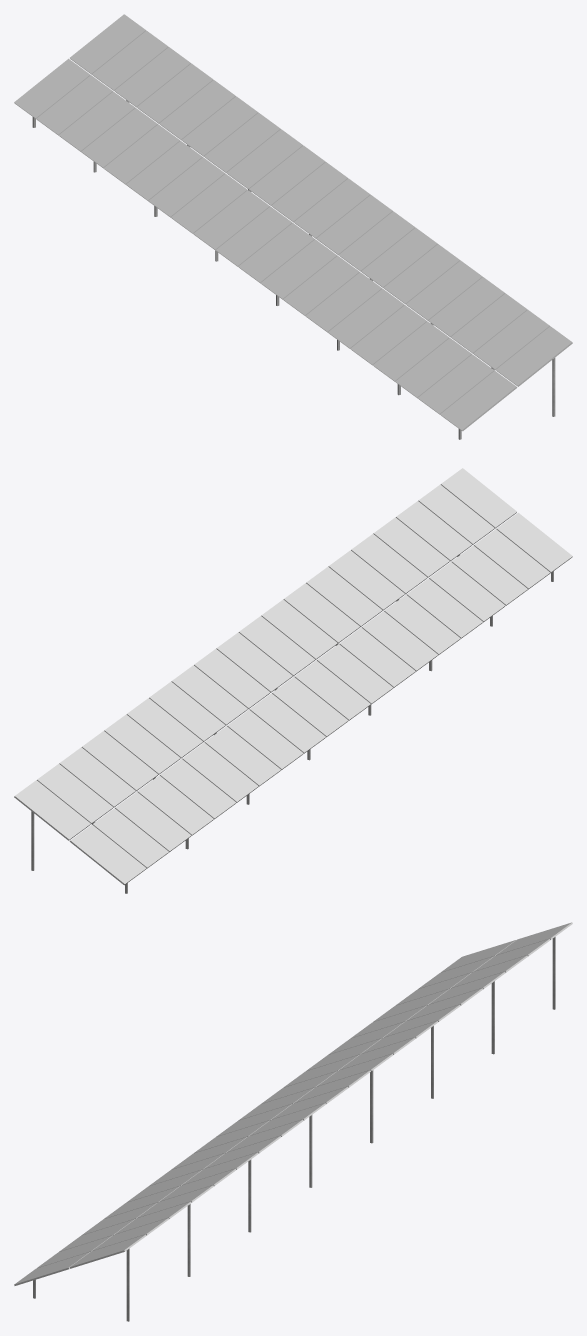
Rendered from 10kWp_groundmount.glb.
The picture shows the model from 3 angles, top to bottom: view 1: azimuth 30°, elevation 25°; view 2: azimuth 150°, elevation 25°; view 3: azimuth 330°, elevation 25°; orthographic projection.
Visible parts, largest first — view 1: instance_12.001, instance_4.003, instance_14.003, instance_6.001, instance_15.003, instance_2.003, instance_10.003, instance_0.001, instance_0.003, instance_10.001, instance_13.001, instance_1.001 (+28 smaller); view 2: instance_12.001, instance_14.001, instance_4.003, instance_15.003, instance_2.001, instance_7.003, instance_10.001, instance_1.003, instance_0.003, instance_0.001, instance_13.001, instance_5.003 (+28 smaller); view 3: instance_18.001, instance_1.001, instance_12.001, instance_15.001, instance_1.003, instance_10.003, instance_12.003, instance_2.003, instance_5.003, instance_6.003, instance_0.001, instance_10.001 (+28 smaller).
Boxes of the visible parts, <box> form: instance_12.001: <box>418,354,493,413</box>; instance_4.003: <box>261,239,336,298</box>; instance_14.003: <box>159,80,235,139</box>; instance_6.001: <box>451,293,526,352</box>; instance_15.003: <box>126,141,202,199</box>; instance_2.003: <box>316,195,392,254</box>; instance_10.003: <box>294,178,369,237</box>; instance_0.001: <box>283,256,359,314</box>; instance_0.003: <box>104,124,179,183</box>; instance_10.001: <box>473,310,549,369</box>; instance_13.001: <box>395,338,471,397</box>; instance_1.001: <box>384,244,459,303</box>; instance_12.001: <box>474,529,550,588</box>; instance_14.001: <box>284,583,359,642</box>; instance_4.003: <box>317,644,393,703</box>; instance_15.003: <box>182,742,258,801</box>; instance_2.001: <box>441,468,516,527</box>; instance_7.003: <box>127,698,202,757</box>; instance_10.001: <box>418,484,494,543</box>; instance_1.003: <box>149,681,225,740</box>; instance_0.003: <box>160,759,235,818</box>; instance_0.001: <box>340,627,415,686</box>; instance_13.001: <box>452,545,527,604</box>; instance_5.003: <box>172,665,247,724</box>; instance_18.001: <box>373,989,448,1021</box>; instance_1.001: <box>182,1152,257,1184</box>; instance_12.001: <box>37,1235,112,1267</box>; instance_15.001: <box>149,1153,224,1185</box>; instance_1.003: <box>362,1021,436,1053</box>; instance_10.003: <box>272,1086,347,1119</box>; instance_12.003: <box>216,1104,291,1136</box>; instance_2.003: <box>249,1103,324,1135</box>; instance_5.003: <box>339,1037,414,1069</box>; instance_6.003: <box>294,1070,369,1102</box>; instance_0.001: <box>171,1137,246,1169</box>; instance_10.001: <box>93,1218,167,1250</box>.
Bounding box in the file's own units: 2.94 × 2.05 × 20.57.
Materials: 2 (1 with a texture image).
